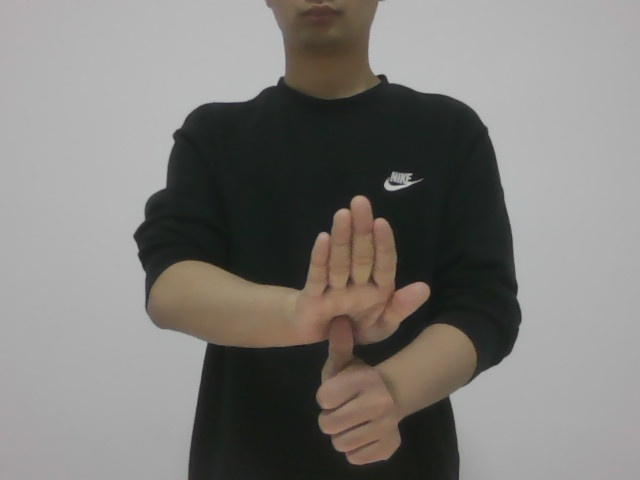love: (283, 182, 439, 473)
